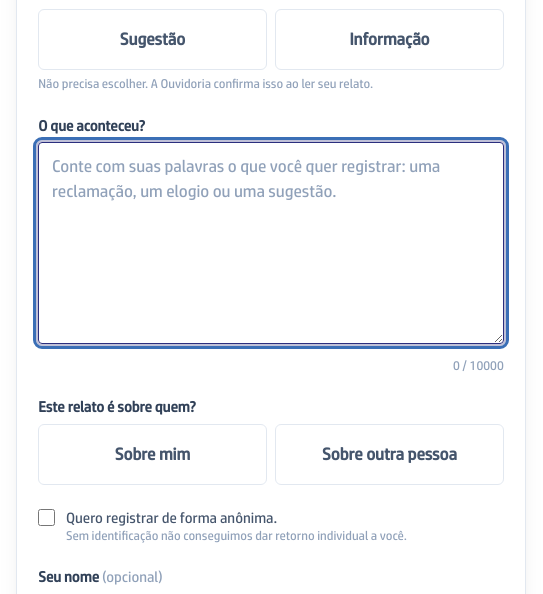
Test: a pergunta de quem é o relato (issue #666) › os campos do paciente continuam na tela com anônimo marcado, e o aviso cresce
(page scrolled)
Replace the text in the text box labelled "O que aconteceu?" with "Minha mãe esperou duas horas na recepção." at point(271, 243), box [38,142,504,344]
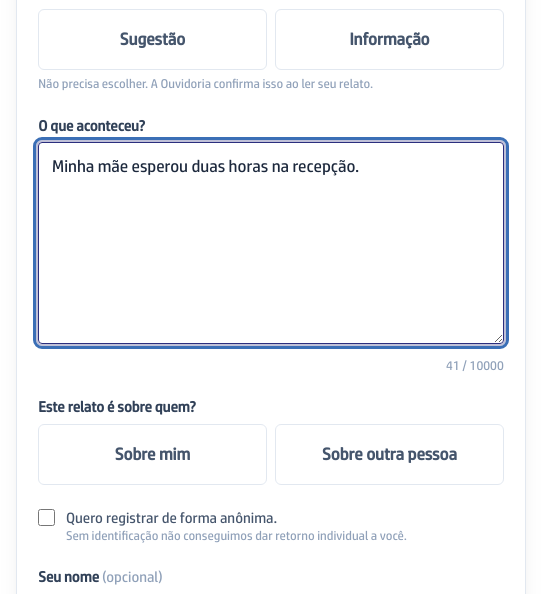
Click the button "Sobre outra pessoa" at point(390, 455), box [275,424,504,485]
(page scrolled)
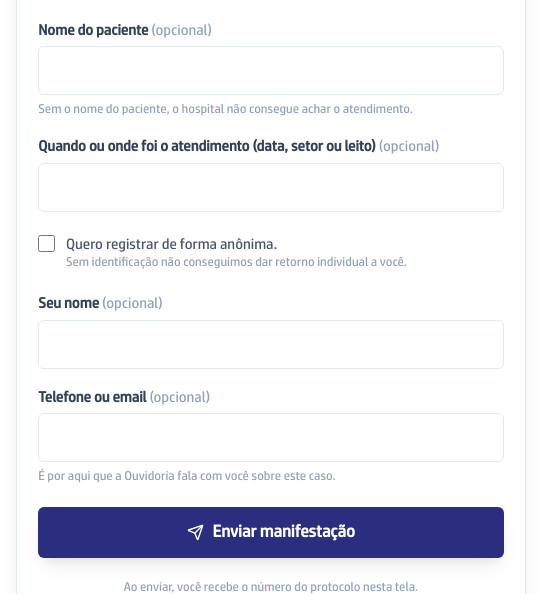
Click the checkbox at point(47, 244), box [38,235,55,252]
(page scrolled)
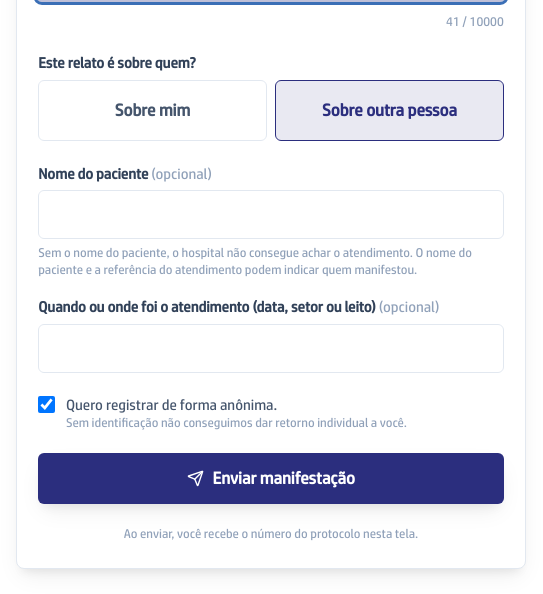
expect the field labelled "Nome do paciente (opcional)" is shown: met, box [38,190,504,239]
expect the field labelled "Quando ou onde foi o atendimento" is shown: met, box [38,324,504,373]
expect the label labelled "Seu nome" is gone: met
